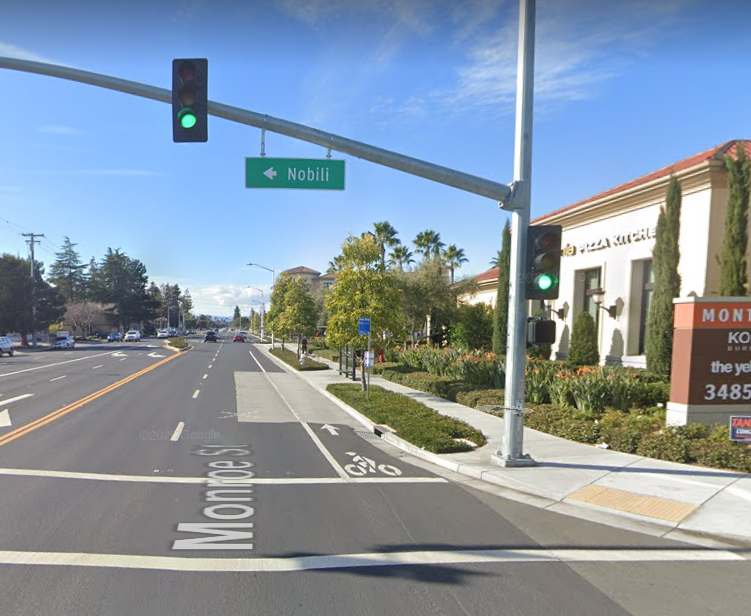green_light: (174, 59, 208, 143), (529, 227, 560, 300)
